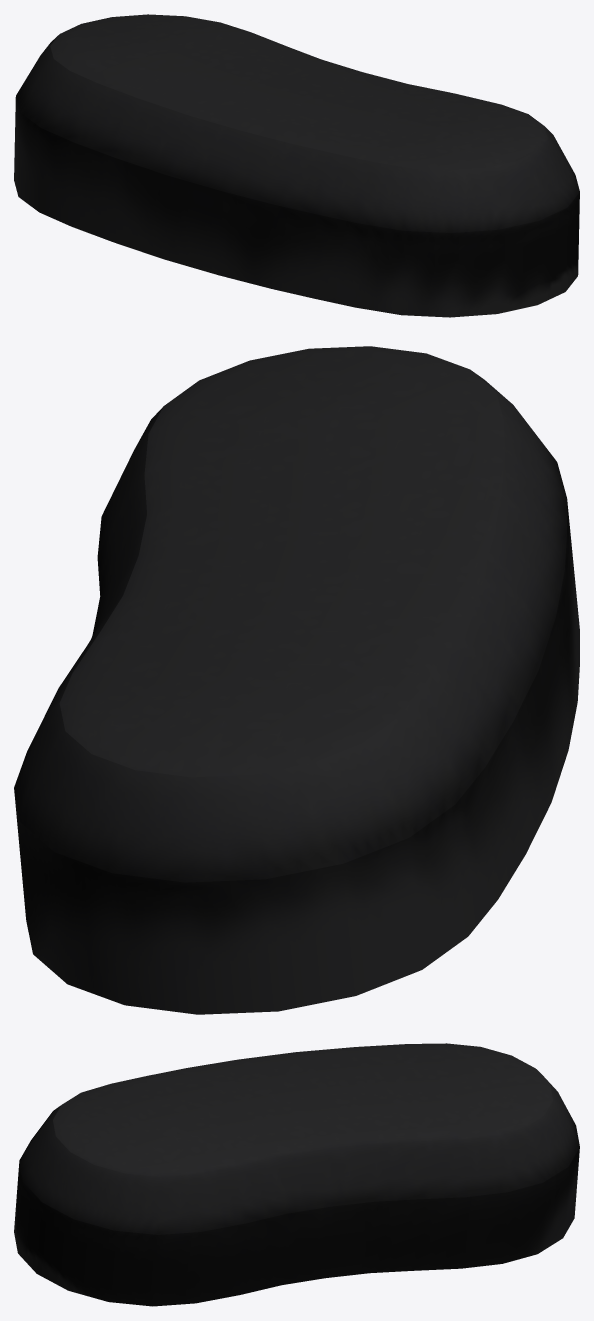
Rendered from button_b_right.obj.
3 renders of one model, top to bottom at view 1: azimuth 30°, elevation 25°; view 2: azimuth 150°, elevation 25°; view 3: azimuth 270°, elevation 25°, orthographic. The views are drawn at different scales.
Parts seen in each view (by area): view 1: button_face_b; view 2: button_face_b; view 3: button_face_b.
Part boxes in pixels (<box>): button_face_b: <box>14,14,579,317</box>; button_face_b: <box>14,346,579,1014</box>; button_face_b: <box>14,1043,579,1306</box>.
Size of the model in its own units: 0.012 by 0.00531 by 0.0179.
1 material, 1 textured.
